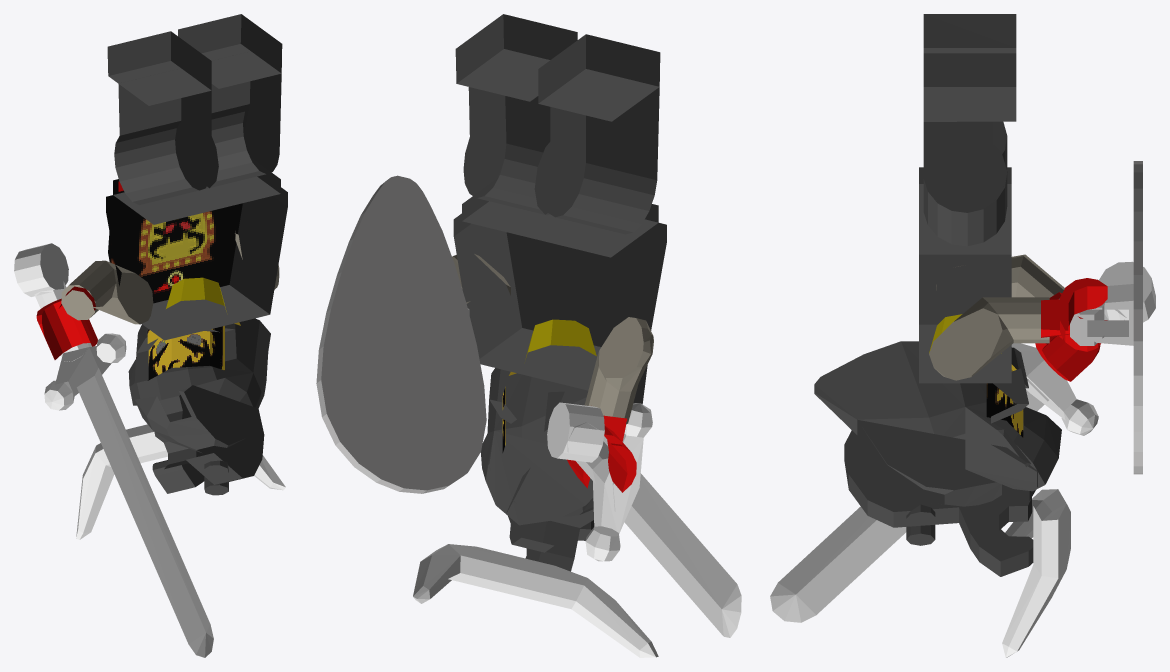
Rendered from minifigcedricbull01.glb.
3 renders of one model, left to right at view 1: azimuth 30°, elevation 25°; view 2: azimuth 150°, elevation 25°; view 3: azimuth 270°, elevation 25°, orthographic. The views are drawn at different scales.
Parts seen in each view (by area): view 1: 024_shape11, 022_shape10, 036_shape19, 019_shape8, 015_shape5, 021_shape9, 017_shape7, 029_shape15, 012_shape3, 026_shape13, 037_shape20; view 2: 044_shape24, 022_shape10, 024_shape11, 036_shape19, 019_shape8, 026_shape13, 015_shape5, 021_shape9, 017_shape7, 012_shape3, 029_shape15, 037_shape20; view 3: 024_shape11, 036_shape19, 015_shape5, 022_shape10, 017_shape7, 040_shape22, 044_shape24, 026_shape13, 021_shape9, 046_shape20, 012_shape3, 029_shape15 (+1 smaller).
Boxes of the visible parts, x1,y1,x2,y2 form: 024_shape11: (128,277,270,495); 022_shape10: (106,187,287,340); 036_shape19: (14,243,213,657); 019_shape8: (114,69,211,205); 015_shape5: (205,52,281,188); 021_shape9: (107,31,211,105); 017_shape7: (178,14,282,88); 029_shape15: (61,260,153,324); 012_shape3: (113,136,280,224); 026_shape13: (76,424,285,539); 037_shape20: (36,286,97,359); 044_shape24: (316,175,486,493); 022_shape10: (453,213,666,390); 024_shape11: (480,319,647,571); 036_shape19: (547,402,741,637); 019_shape8: (543,71,659,234); 026_shape13: (413,544,658,657); 015_shape5: (463,49,550,215); 021_shape9: (538,34,660,121); 017_shape7: (455,14,577,101); 012_shape3: (462,142,658,257); 029_shape15: (584,317,653,424); 037_shape20: (567,415,636,492); 024_shape11: (814,314,1061,576); 036_shape19: (770,261,1155,622); 015_shape5: (923,86,1007,246); 022_shape10: (919,254,1011,383); 017_shape7: (923,53,1016,121); 040_shape22: (929,297,1049,380); 044_shape24: (1070,161,1142,474); 026_shape13: (1002,489,1070,657); 021_shape9: (923,14,1016,53); 046_shape20: (1041,278,1107,351); 012_shape3: (919,145,1011,254); 029_shape15: (936,254,1064,299).
Size of the model in its own units: 2.66 by 5.82 by 3.33.
Materials: 11 (4 with a texture image).
